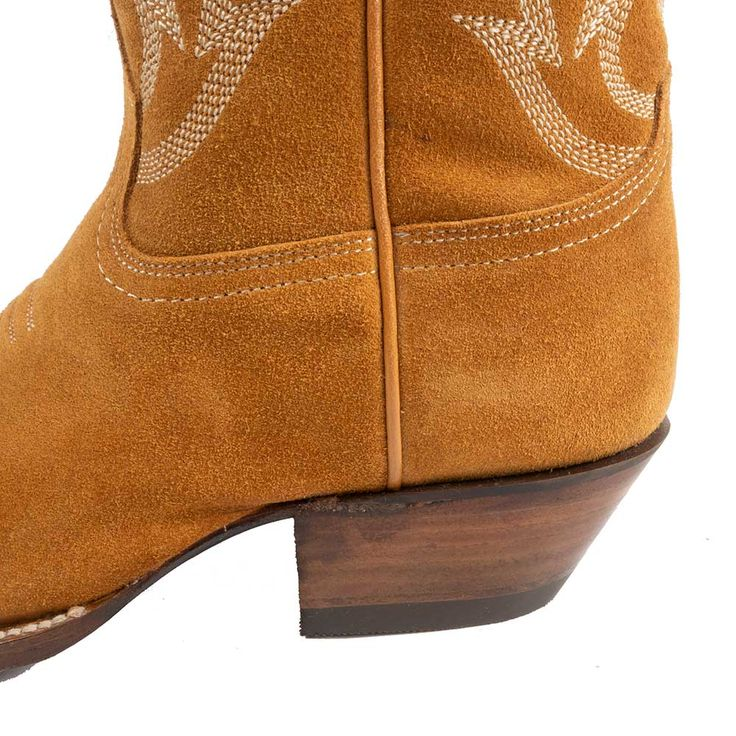gamuza: (2, 1, 680, 621)
